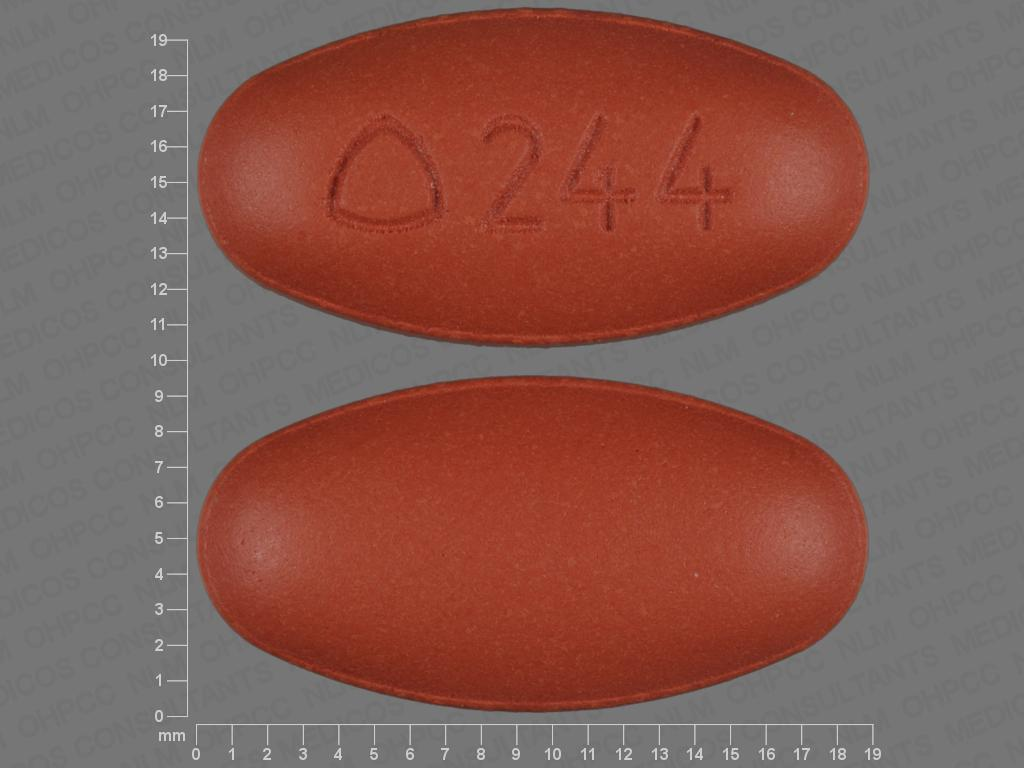Pill: (194, 364, 876, 721), (193, 1, 874, 353)
